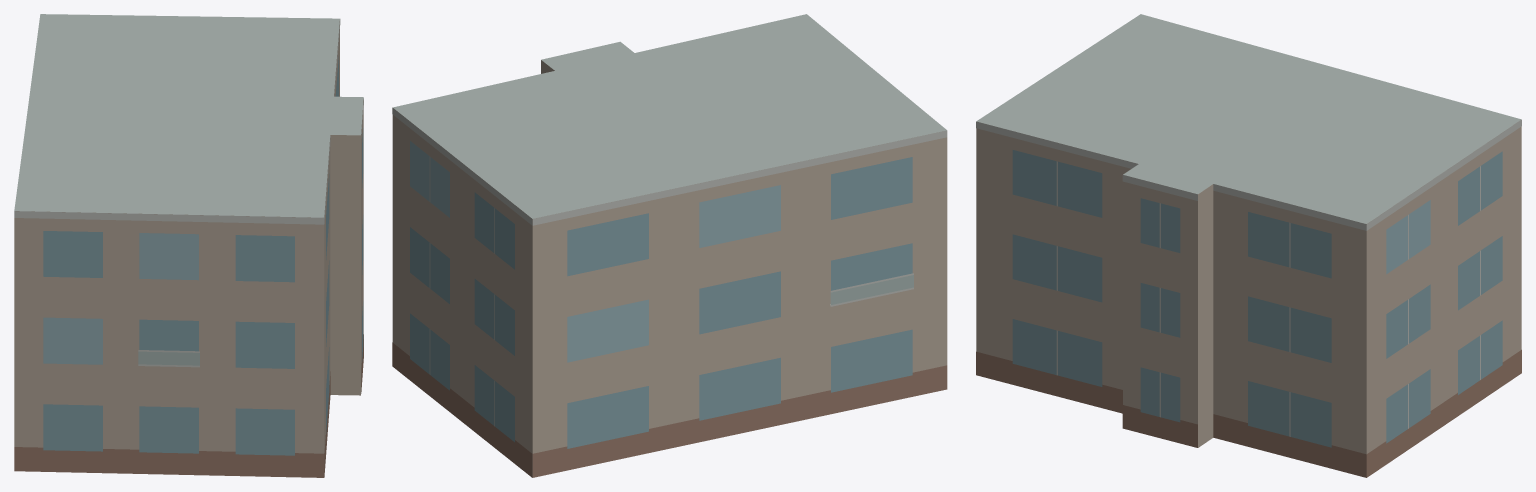
File: survey-upis-32771669.glb
3 renders of one model, left to right at view 1: azimuth 30°, elevation 25°; view 2: azimuth 150°, elevation 25°; view 3: azimuth 270°, elevation 25°, orthographic. The views are drawn at different scales.
Parts seen in each view (by area): view 1: survey-upis-32771669.tmp; view 2: survey-upis-32771669.tmp; view 3: survey-upis-32771669.tmp.
Part boxes in pixels (<box>): survey-upis-32771669.tmp: <box>14,14,363,477</box>; survey-upis-32771669.tmp: <box>392,14,947,477</box>; survey-upis-32771669.tmp: <box>976,14,1521,477</box>.
Bounding box in the file's own units: 16.26 × 9.15 × 17.84.
